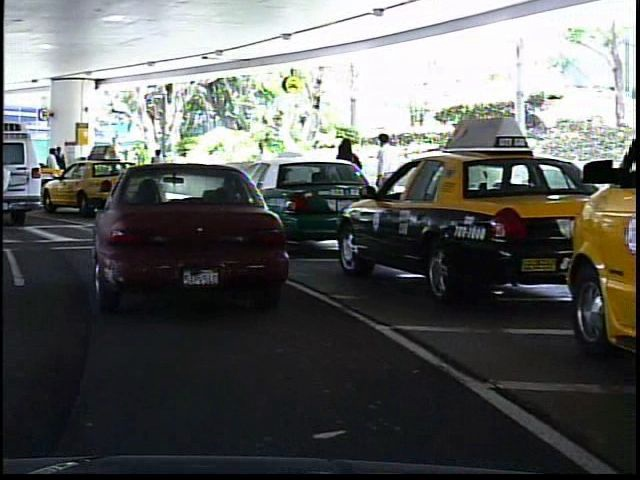person: (326, 131, 362, 231), (368, 128, 400, 228), (247, 136, 276, 208), (141, 145, 167, 198), (41, 146, 59, 198), (51, 145, 67, 196)
